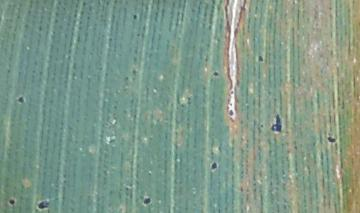tarspot: (271, 114, 283, 133), (37, 199, 50, 209), (142, 196, 152, 206), (255, 52, 264, 63), (326, 135, 337, 144), (210, 159, 218, 171), (17, 96, 26, 105), (7, 197, 16, 206), (211, 69, 219, 78), (227, 108, 234, 117), (228, 88, 235, 97), (123, 74, 130, 82), (132, 13, 138, 21), (259, 122, 265, 129)
